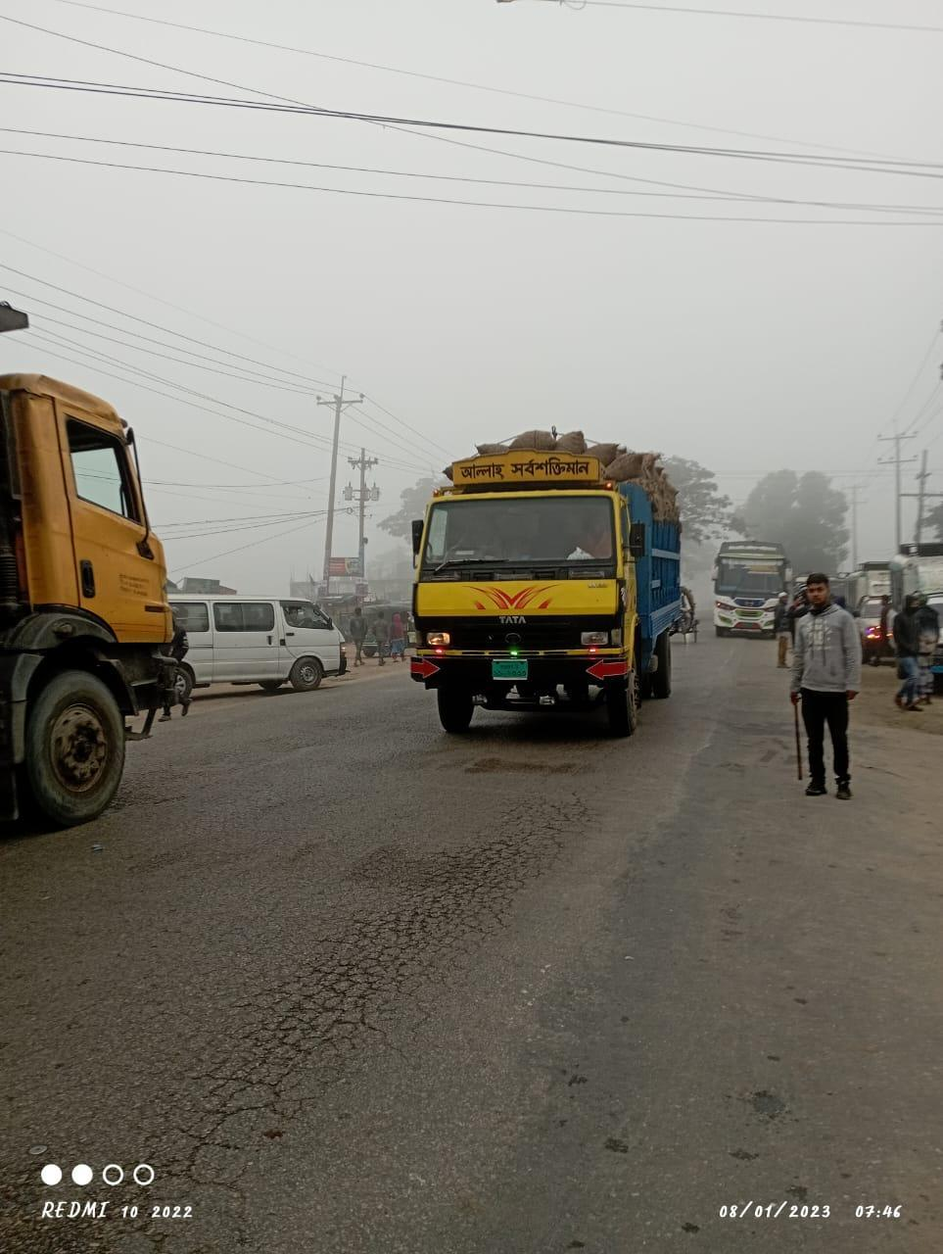Bus: (715, 537, 787, 650)
Car: (172, 584, 351, 693)
Truck: (1, 286, 190, 826), (404, 431, 683, 706)
